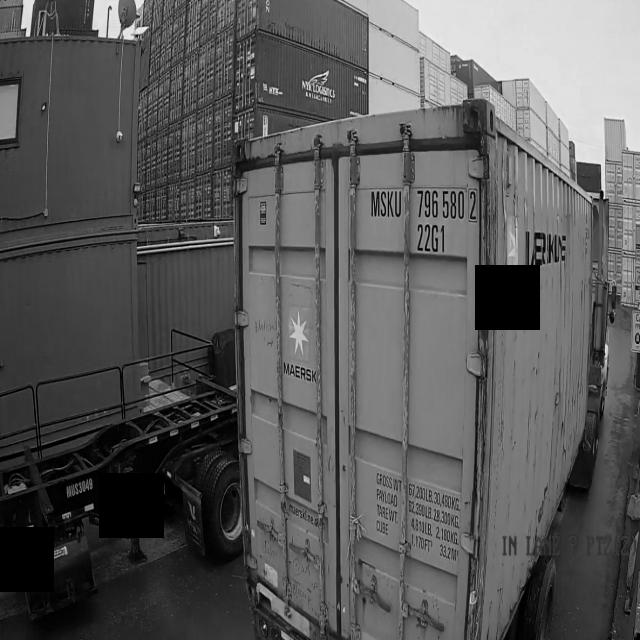container_company_logo: (281, 300, 318, 394)
container_number: (370, 190, 480, 262)
other_container_info: (375, 470, 462, 569)
truck_with_container: (217, 99, 614, 640)
